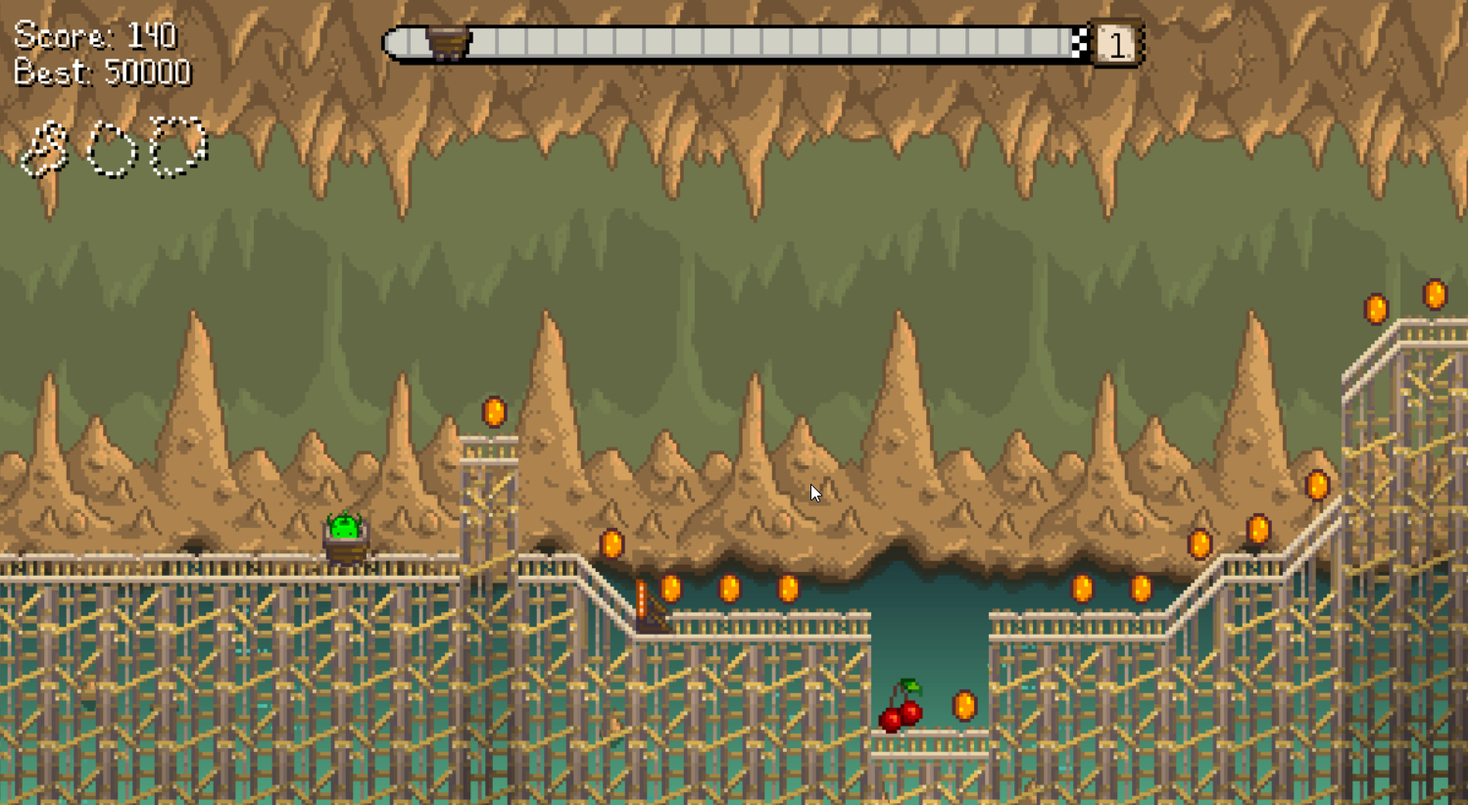barricade: (636, 582, 671, 633)
cherry: (881, 667, 922, 732)
coins: (952, 689, 977, 722), (482, 396, 507, 428), (1189, 528, 1212, 560), (1248, 514, 1271, 544), (1307, 469, 1329, 500), (718, 574, 741, 603), (777, 574, 800, 603), (1366, 294, 1388, 324), (1424, 280, 1446, 310), (1071, 574, 1094, 602), (601, 529, 623, 557), (661, 574, 682, 602), (1131, 575, 1152, 602)
tracks: (0, 547, 467, 588), (563, 553, 664, 645), (1148, 546, 1240, 643), (630, 605, 878, 640), (1267, 490, 1355, 586), (1325, 317, 1409, 409), (987, 604, 1167, 643), (861, 720, 998, 757), (1398, 308, 1468, 356), (452, 430, 523, 469), (1221, 546, 1285, 585), (514, 545, 579, 583)
